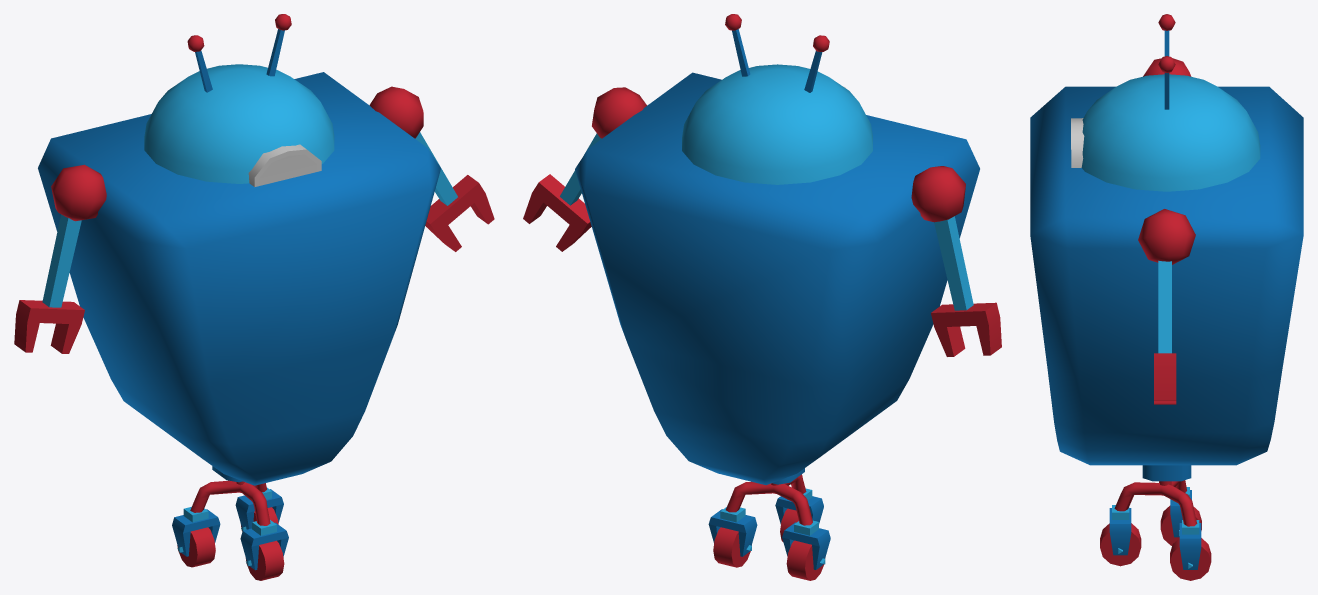
File: robot_03_A_mesh.FBX
3 renders of one model, left to right at view 1: azimuth 30°, elevation 25°; view 2: azimuth 150°, elevation 25°; view 3: azimuth 270°, elevation 25°, orthographic. The views are drawn at different scales.
Visible parts, largest first — view 1: robot_03_A_body_mesh, robot_03_A_head_mesh, robot_03_A_right_arm_mesh, robot_03_A_left_arm_mesh, robot_03_A_whell_03_mesh, robot_03_A_whell_01_mesh; view 2: robot_03_A_body_mesh, robot_03_A_head_mesh, robot_03_A_right_arm_mesh, robot_03_A_left_arm_mesh, robot_03_A_whell_02_mesh, robot_03_A_whell_03_mesh; view 3: robot_03_A_body_mesh, robot_03_A_head_mesh, robot_03_A_left_arm_mesh, robot_03_A_whell_01_mesh, robot_03_A_whell_02_mesh, robot_03_A_whell_03_mesh, robot_03_A_right_arm_mesh.
Boxes of the visible parts, box(x1,y1,x2,y2) form: robot_03_A_body_mesh: box(38, 72, 440, 570); robot_03_A_head_mesh: box(144, 14, 334, 186); robot_03_A_right_arm_mesh: box(14, 164, 106, 353); robot_03_A_left_arm_mesh: box(369, 86, 494, 251); robot_03_A_whell_03_mesh: box(177, 527, 215, 567); robot_03_A_whell_01_mesh: box(245, 540, 284, 580); robot_03_A_body_mesh: box(575, 72, 979, 569); robot_03_A_head_mesh: box(682, 14, 872, 184); robot_03_A_right_arm_mesh: box(911, 166, 1001, 356); robot_03_A_left_arm_mesh: box(523, 87, 646, 251); robot_03_A_whell_02_mesh: box(713, 527, 751, 567); robot_03_A_whell_03_mesh: box(786, 540, 824, 580); robot_03_A_body_mesh: box(1030, 86, 1303, 569); robot_03_A_head_mesh: box(1071, 14, 1260, 191); robot_03_A_left_arm_mesh: box(1138, 209, 1195, 404); robot_03_A_whell_01_mesh: box(1100, 523, 1141, 566); robot_03_A_whell_02_mesh: box(1170, 538, 1211, 580); robot_03_A_whell_03_mesh: box(1160, 505, 1201, 545); robot_03_A_right_arm_mesh: box(1143, 58, 1191, 76).
Size of the model in its own units: 204 by 223 by 105.
